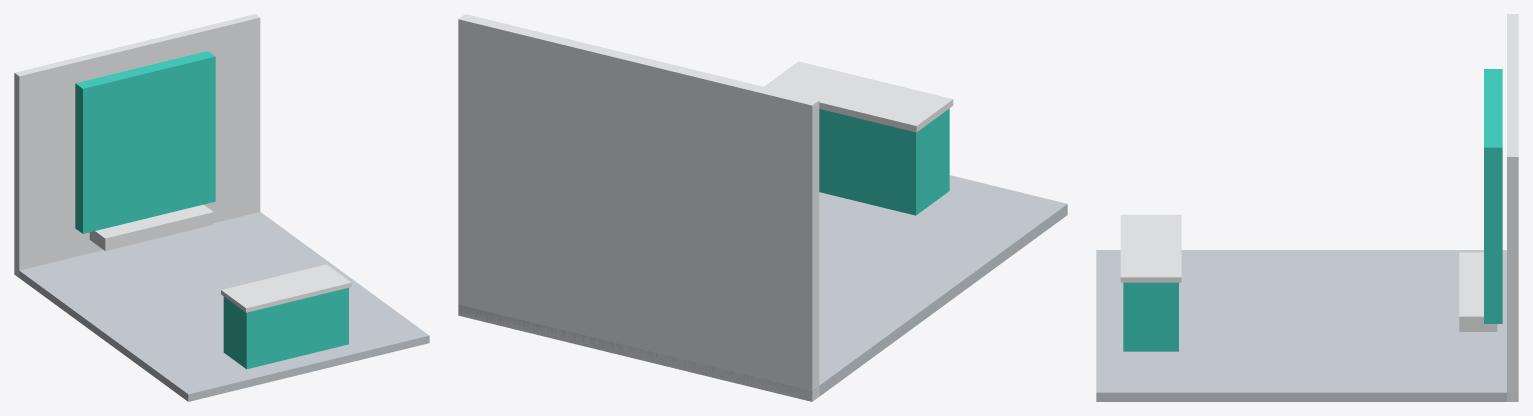
3 renders of one model, left to right at view 1: azimuth 30°, elevation 25°; view 2: azimuth 150°, elevation 25°; view 3: azimuth 270°, elevation 25°, orthographic. The views are drawn at different scales.
Visible parts, largest first — view 1: Exhibition Booth Concept; view 2: Exhibition Booth Concept; view 3: Exhibition Booth Concept.
Part boxes in pixels (x1,y1,x2,y2): Exhibition Booth Concept: (14,14,429,401); Exhibition Booth Concept: (458,14,1067,401); Exhibition Booth Concept: (1096,14,1518,401).
Size of the model in its own units: 4 by 3.2 by 5.
